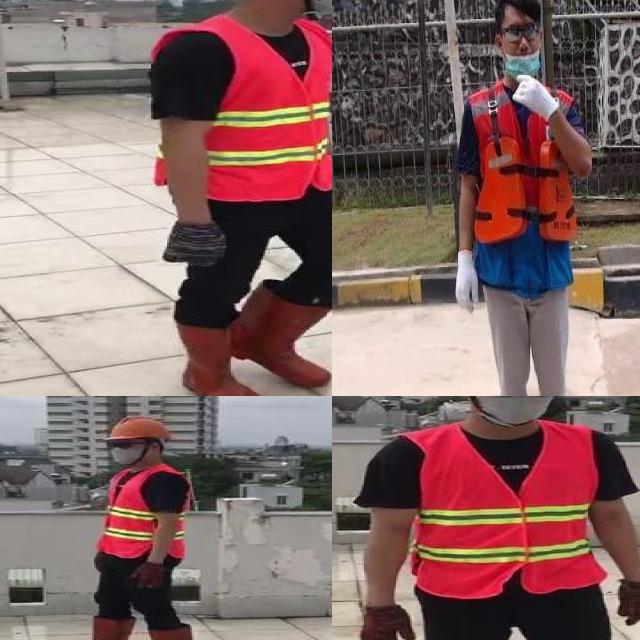boots: (234, 279, 330, 387), (177, 321, 268, 396), (58, 618, 136, 640), (127, 628, 197, 640)
face_mask: (464, 396, 562, 427), (105, 439, 142, 464), (289, 0, 332, 16)
glasses: (477, 396, 563, 403), (102, 438, 136, 452)
hand_glove: (164, 220, 228, 267), (358, 606, 415, 640), (614, 579, 640, 626), (132, 563, 164, 590)
head_helmet: (107, 414, 173, 441)
person: (131, 0, 332, 396), (431, 0, 614, 396), (356, 396, 640, 640), (55, 413, 208, 640)
vest: (145, 20, 332, 202), (410, 424, 599, 593), (465, 79, 581, 292), (96, 471, 188, 561)
